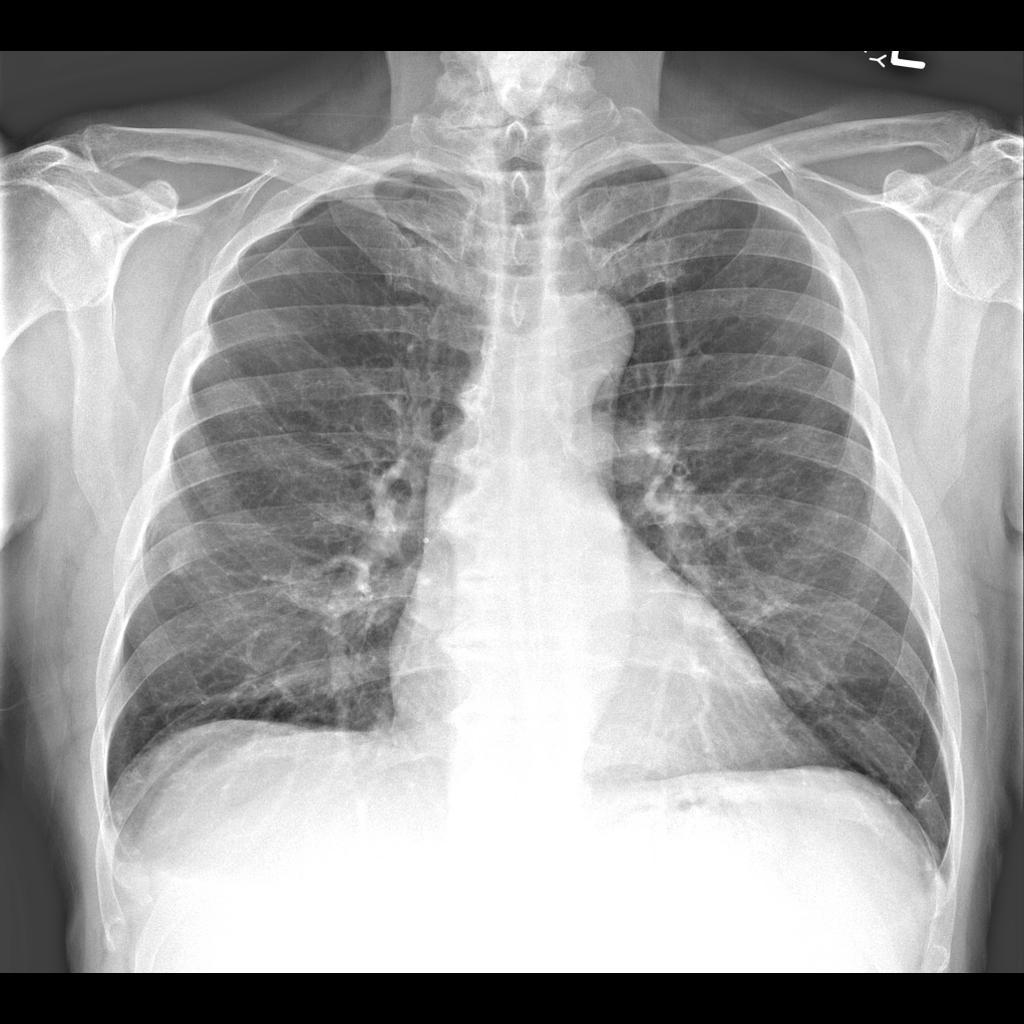Nodule: (167, 547, 192, 581)
